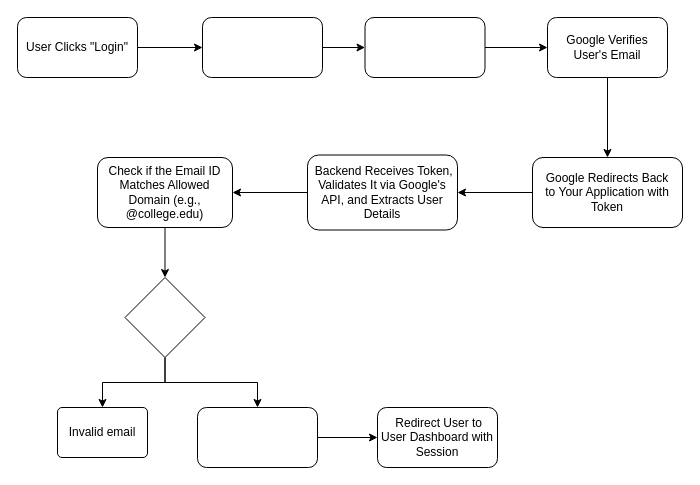
This 700x485 diagram has some shape labels left out. The centre of each missing label's shape, as x and y in pixels:
"check (email)" goes at point 164,317.
"Generate Session and Store in Redis with Expiry Time" goes at point 257,437.
"Google Prompts User to Select College Email ID" goes at point 424,47.
"Redirect to Google OAuth Authentication" goes at point 262,47.
